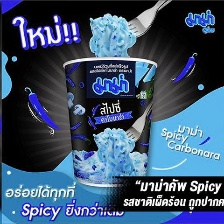paper_cup: (57, 51, 162, 191)
